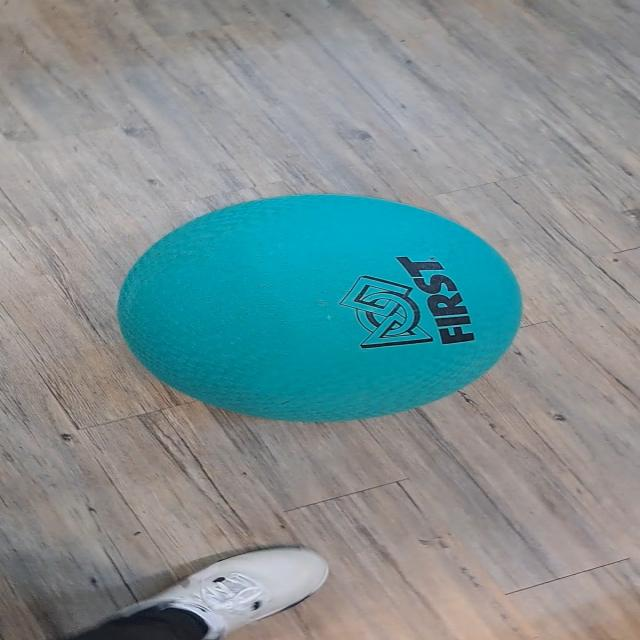ALGAE: (114, 192, 524, 424)
